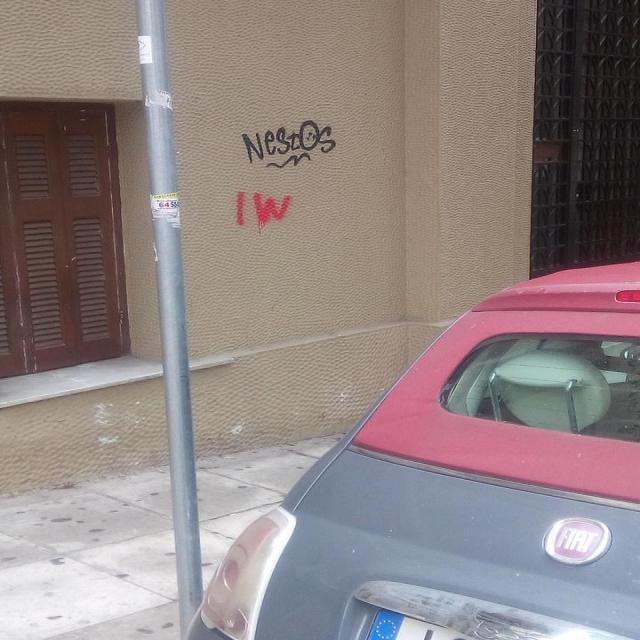nonspitting: (242, 120, 336, 170), (238, 190, 291, 224)
